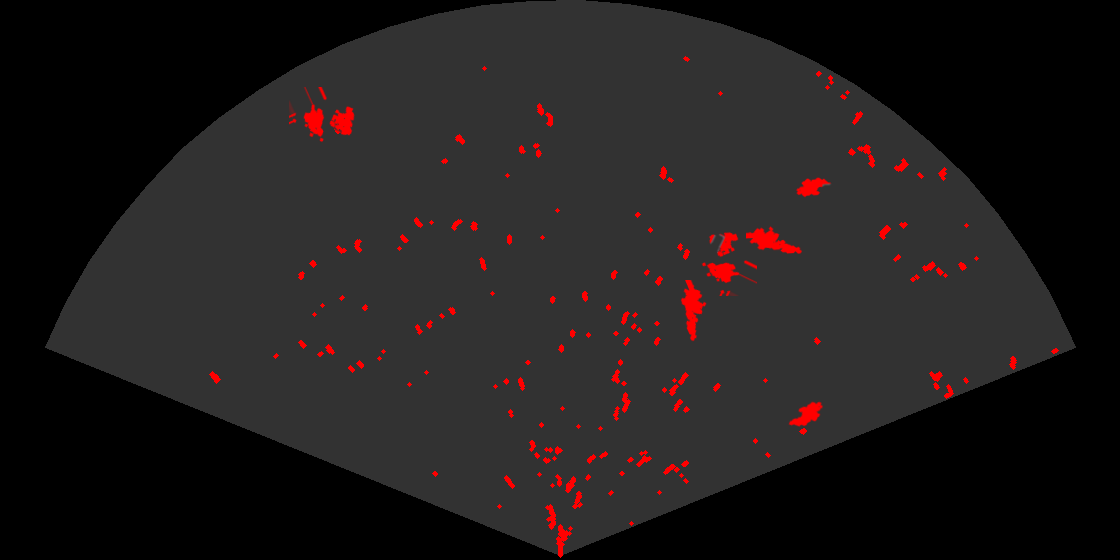AUV: (787, 400, 825, 428), (794, 176, 832, 199)
cage: (289, 87, 356, 144), (700, 230, 757, 296)
frogman: (679, 280, 708, 343), (746, 224, 802, 255)
